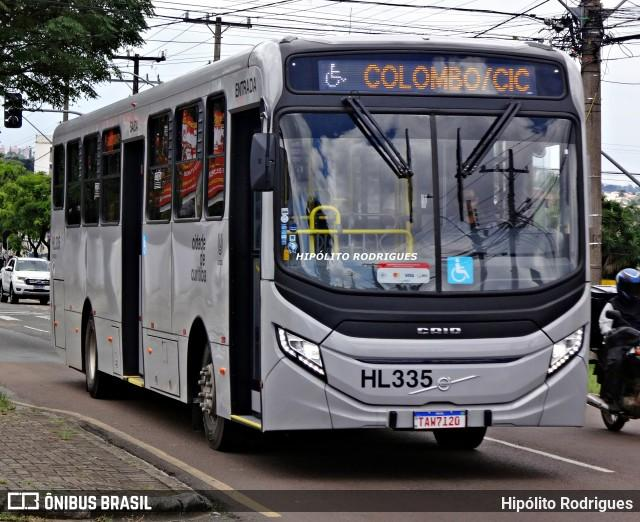COLOMBO CIC: (355, 53, 533, 96)
